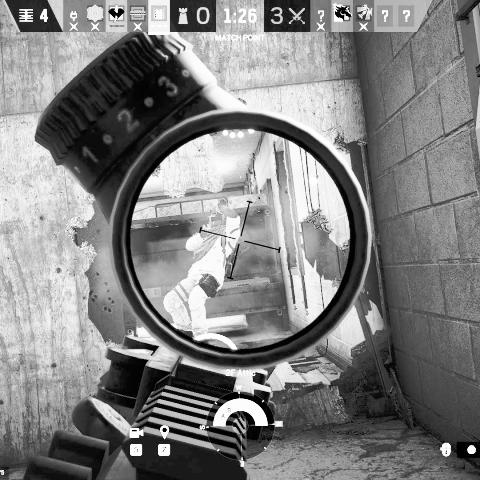Character: (162, 195, 244, 345)
Head: (209, 210, 223, 228)
